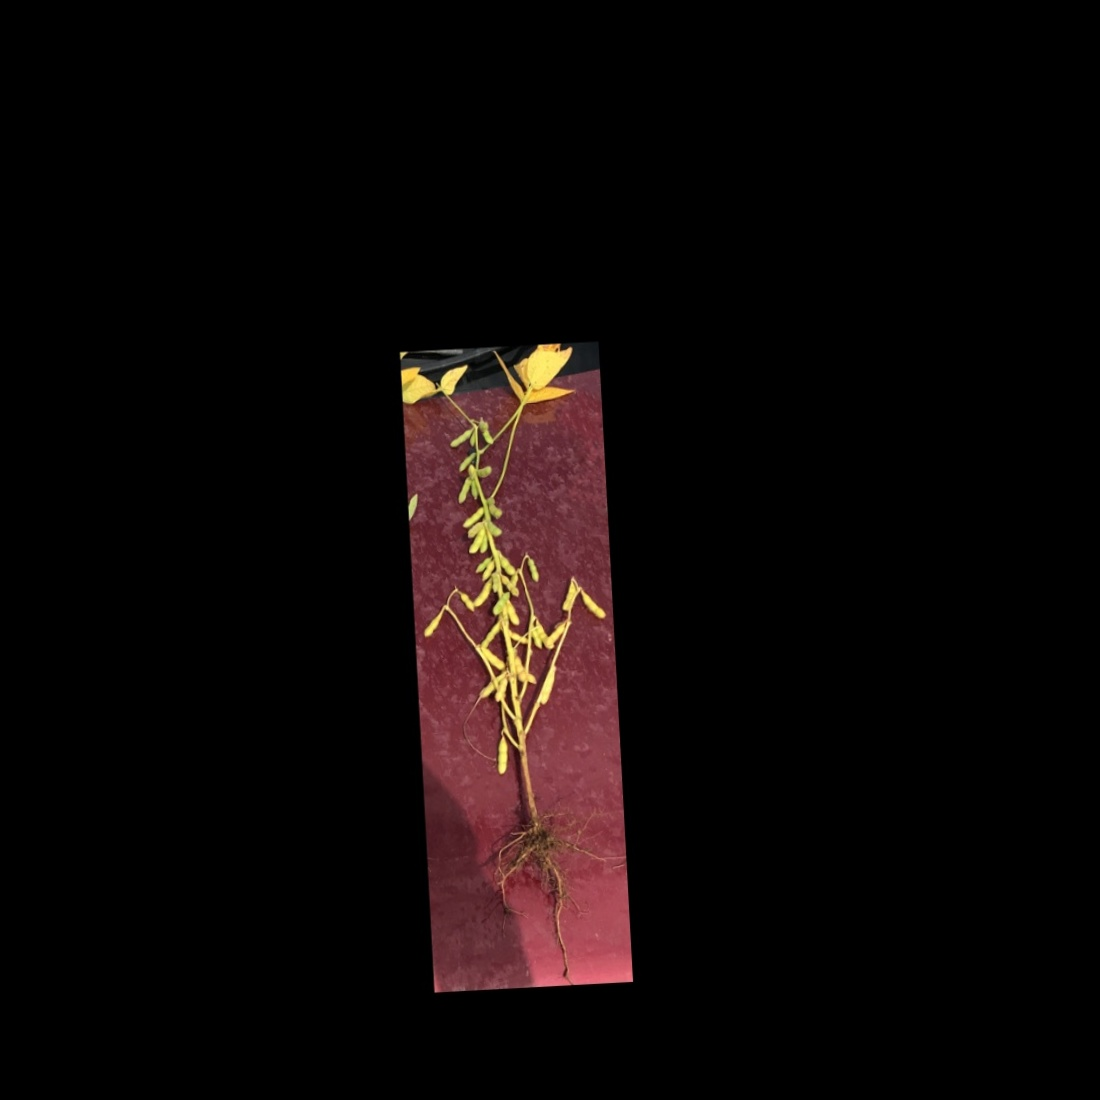pod: (579, 586, 607, 622), (446, 424, 477, 453), (557, 576, 580, 614), (540, 618, 569, 649), (420, 608, 446, 640), (492, 735, 512, 775), (482, 644, 509, 672), (465, 525, 488, 558), (478, 620, 503, 650), (535, 618, 556, 653), (454, 474, 475, 509), (461, 505, 487, 532), (471, 576, 493, 608), (502, 596, 522, 630), (503, 628, 534, 648), (455, 449, 478, 475), (497, 549, 518, 577), (455, 589, 478, 614), (526, 554, 542, 587), (471, 462, 494, 484)
soy: (408, 352, 626, 978)
